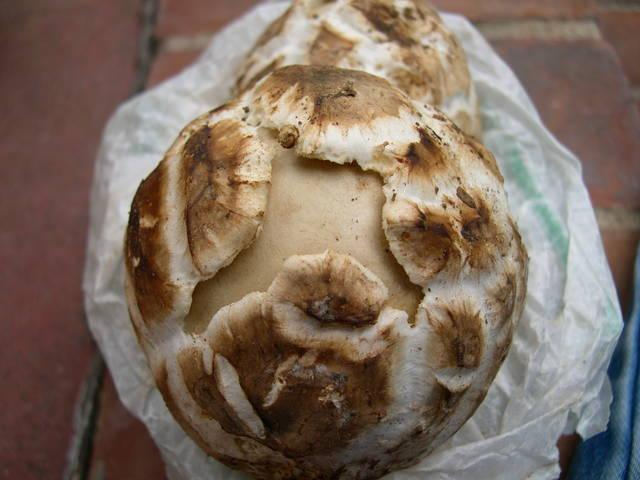Edible Mushroom: (121, 61, 530, 478), (232, 0, 481, 139)
